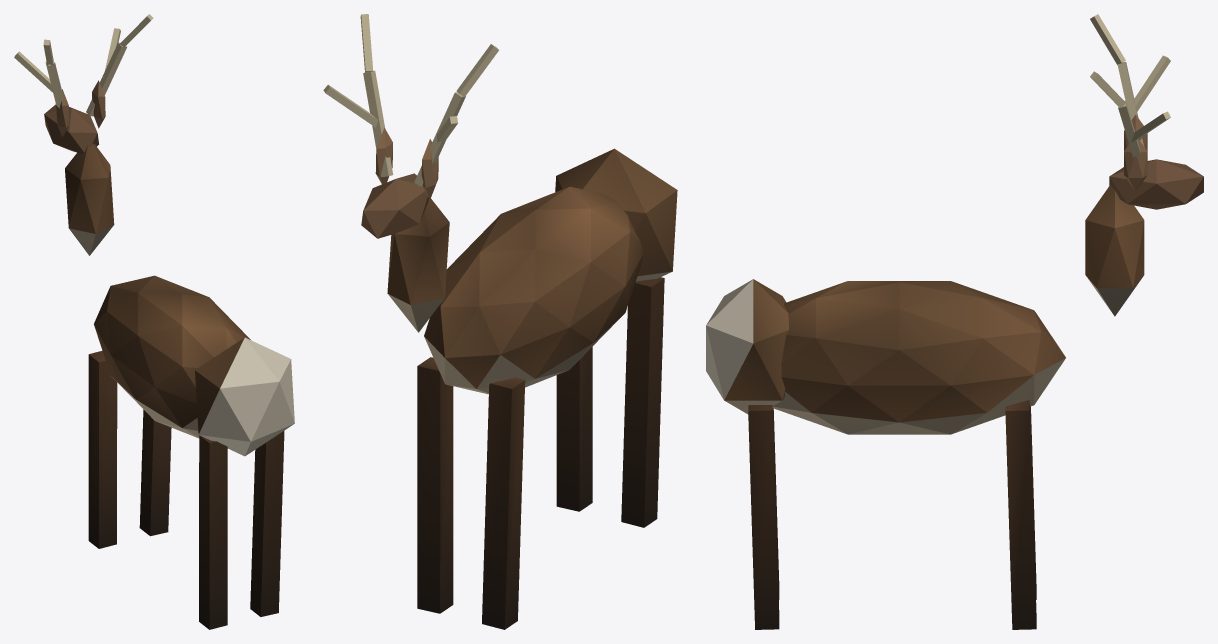
File: deer.glb
The picture shows the model from 3 angles, left to right: view 1: azimuth 30°, elevation 25°; view 2: azimuth 150°, elevation 25°; view 3: azimuth 270°, elevation 25°; orthographic projection. The views are drawn at different scales.
Parts seen in each view (by area): view 1: deer; view 2: deer; view 3: deer.
Part boxes in pixels (box(x1,y1,x2,y2)): deer: box(14, 14, 294, 629); deer: box(323, 14, 677, 629); deer: box(706, 14, 1203, 629).
Size of the model in its own units: 0.4252 by 1.8 by 1.43.
